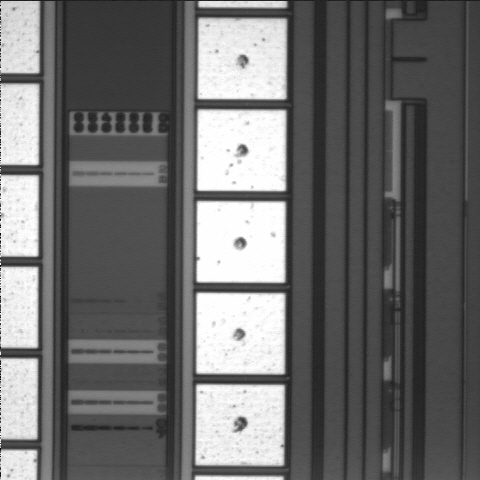pad: (195, 384, 285, 466), (197, 201, 286, 283), (197, 110, 286, 191), (196, 293, 285, 374), (198, 18, 286, 99)
